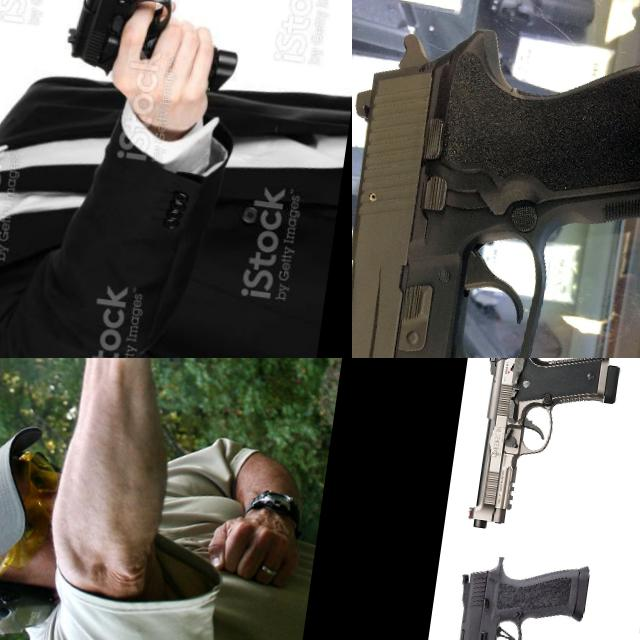handgun: (352, 1, 640, 358), (464, 358, 627, 547), (492, 358, 640, 462), (437, 544, 596, 640), (0, 358, 133, 463), (59, 0, 187, 91)
